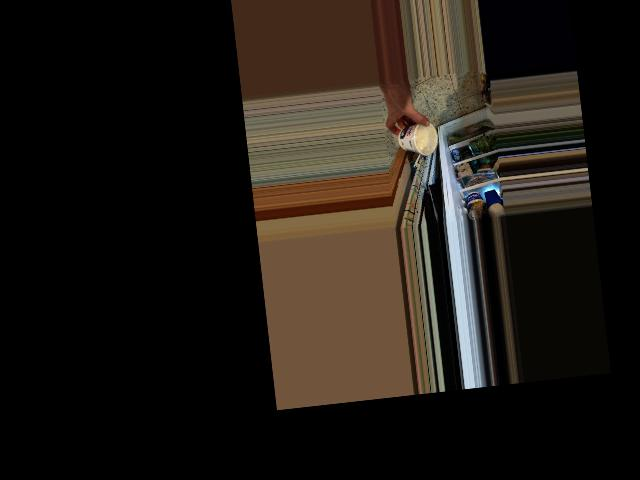cotage: (398, 120, 442, 156)
